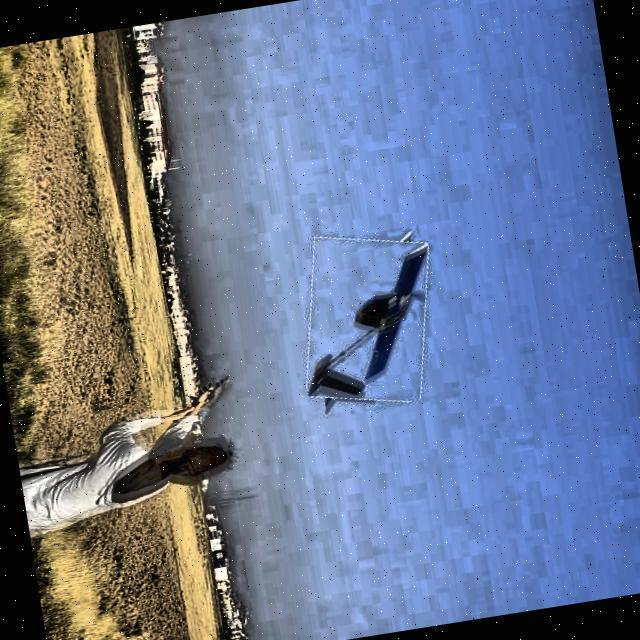iha: (278, 204, 460, 422)
